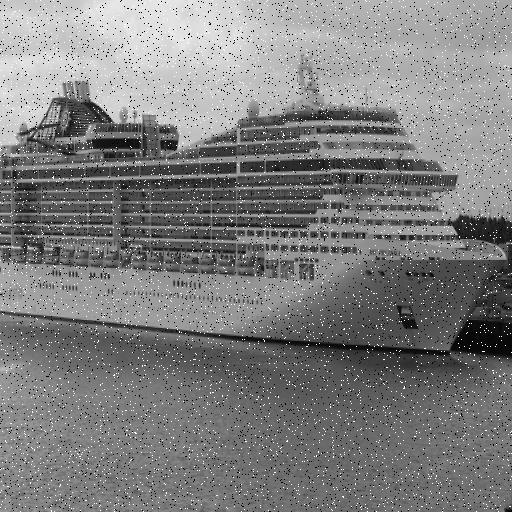cruises: (1, 49, 511, 367)
